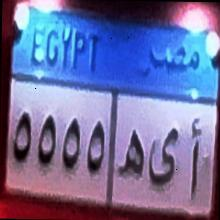5: (84, 118, 106, 175), (59, 116, 80, 172), (12, 110, 34, 163), (36, 112, 56, 163)
alif: (186, 115, 202, 205)
haa: (117, 121, 145, 187)
yaa: (146, 123, 178, 192)
